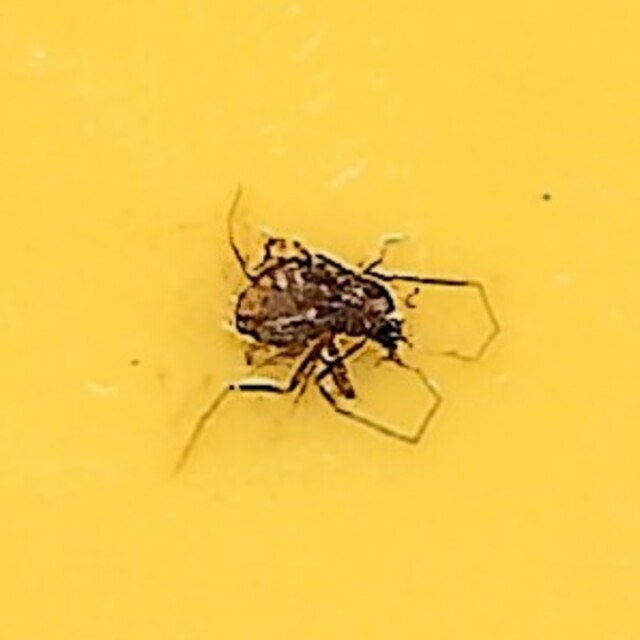Nematocera: (215, 221, 425, 419)
